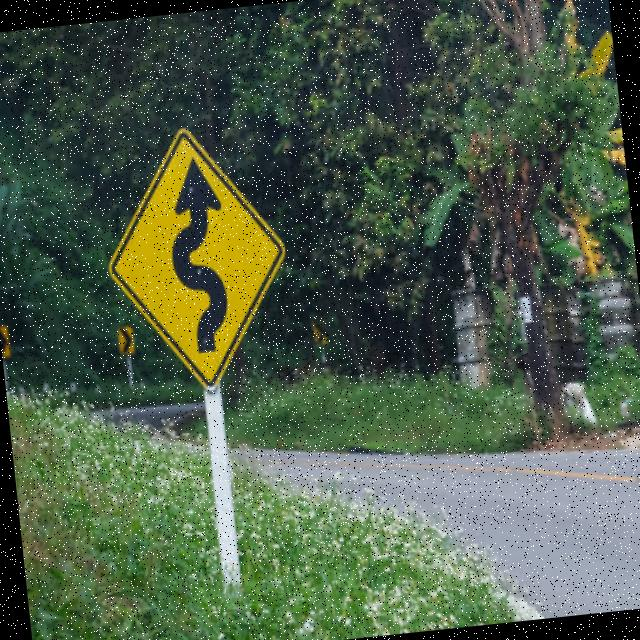left_sharp_curve: (89, 108, 300, 400)
